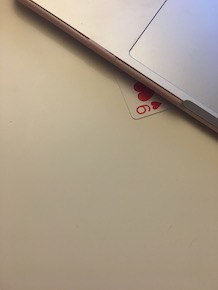NineOfHearts: (108, 60, 180, 123)
